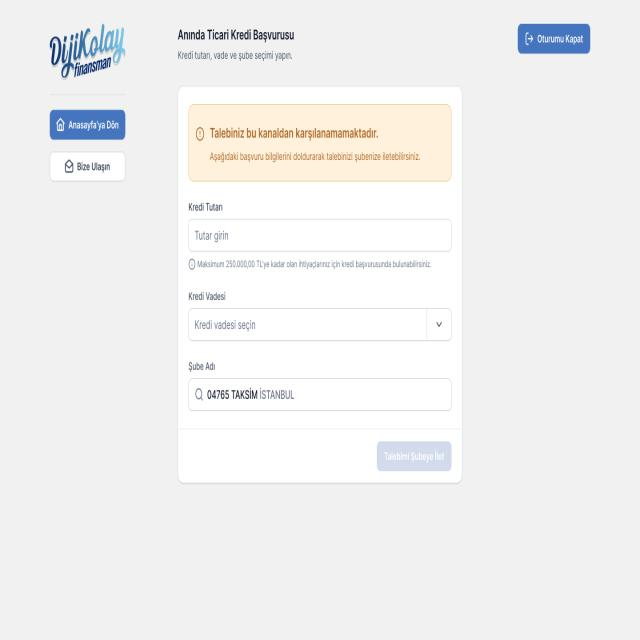QLabel: (209, 149, 422, 164), (198, 258, 432, 270), (210, 126, 380, 142), (176, 25, 296, 44), (176, 50, 294, 63), (382, 447, 446, 463), (68, 119, 120, 133), (186, 200, 228, 214), (76, 160, 111, 174), (188, 290, 226, 302), (188, 359, 216, 373)
VBtn: (377, 440, 452, 472), (49, 109, 126, 140), (516, 23, 593, 54), (50, 152, 126, 181)
VCard: (178, 86, 462, 484), (188, 102, 453, 184)
VCombobox: (188, 308, 452, 342)
VDivider: (178, 428, 462, 430)
VIcon: (54, 116, 66, 134), (194, 126, 206, 142), (63, 158, 74, 175), (188, 257, 196, 271)
VImg: (46, 21, 127, 80)
VTextField: (188, 376, 452, 412), (188, 218, 452, 252)
